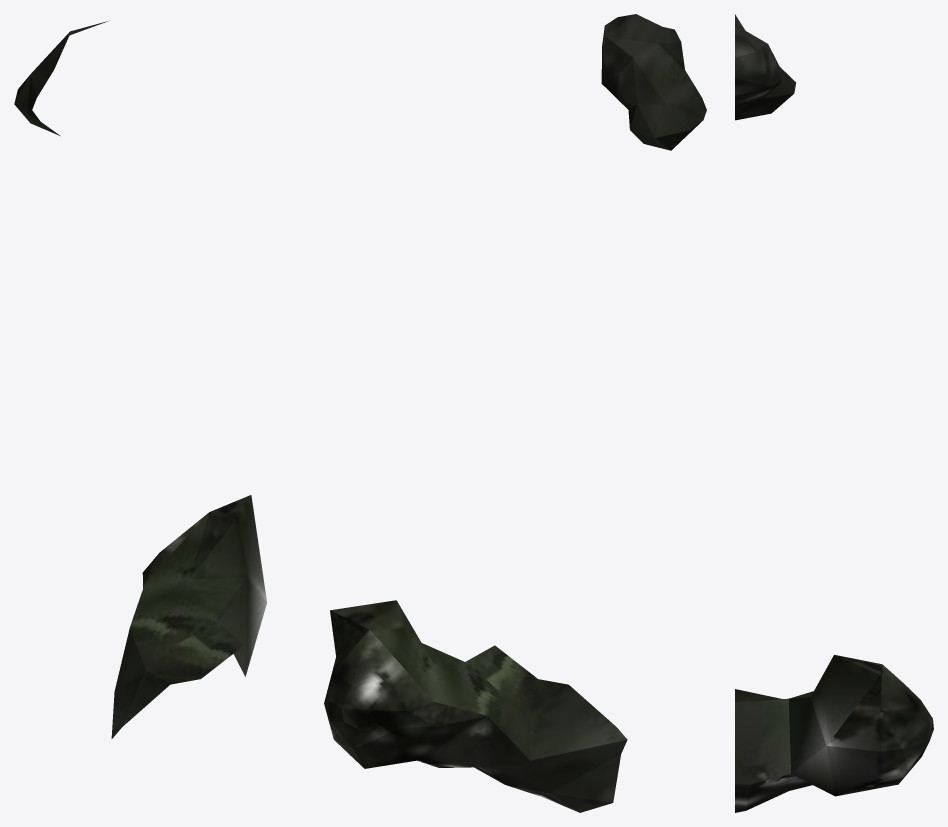
3 renders of one model, left to right at view 1: azimuth 30°, elevation 25°; view 2: azimuth 150°, elevation 25°; view 3: azimuth 270°, elevation 25°, orthographic. The views are drawn at different scales.
Size of the model in its own units: 0.6093 by 1.58 by 0.3816.
1 material, 1 textured.
